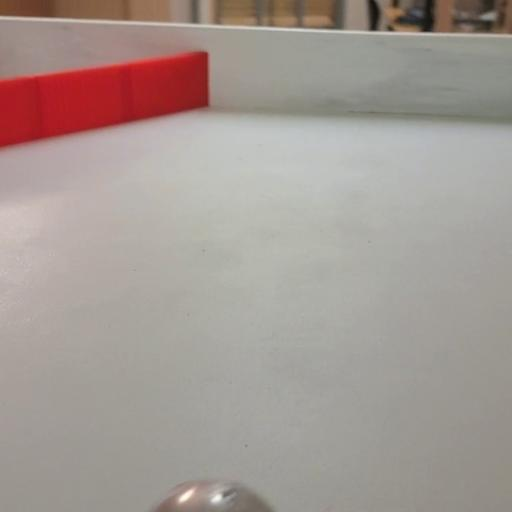alive: (138, 475, 277, 512)
